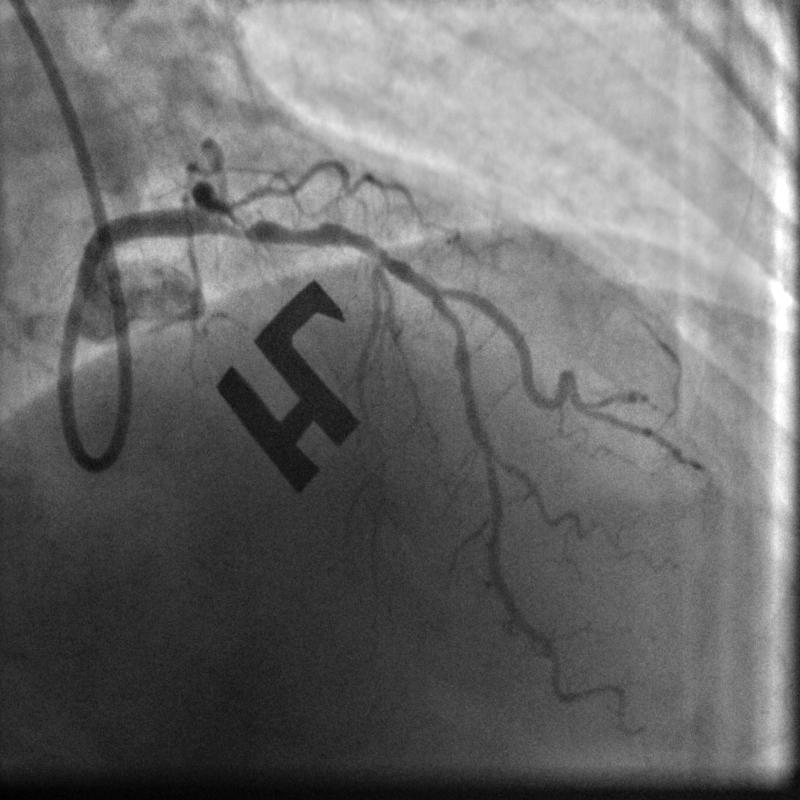Stenosis: (224, 209, 339, 244)
